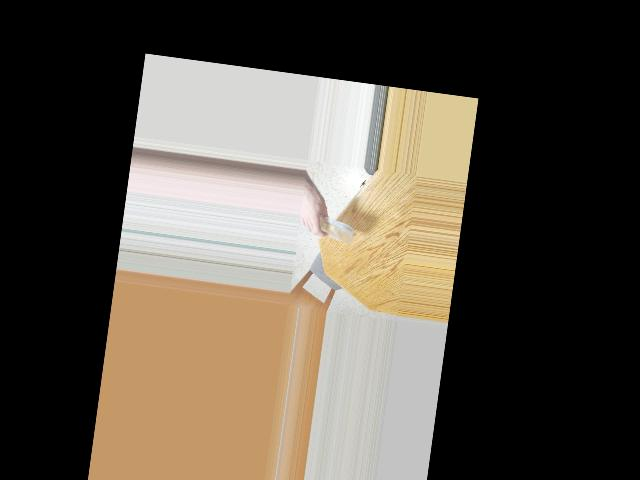cheese: (317, 209, 354, 244)
